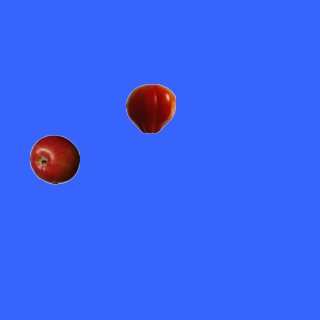Apple Braeburn: (29, 134, 79, 184)
Tomato 1: (125, 83, 175, 133)
